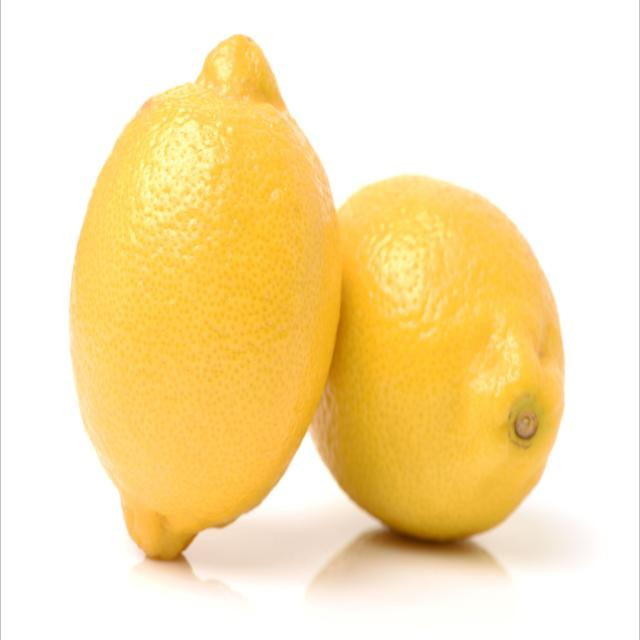lemon: (62, 21, 347, 568)
